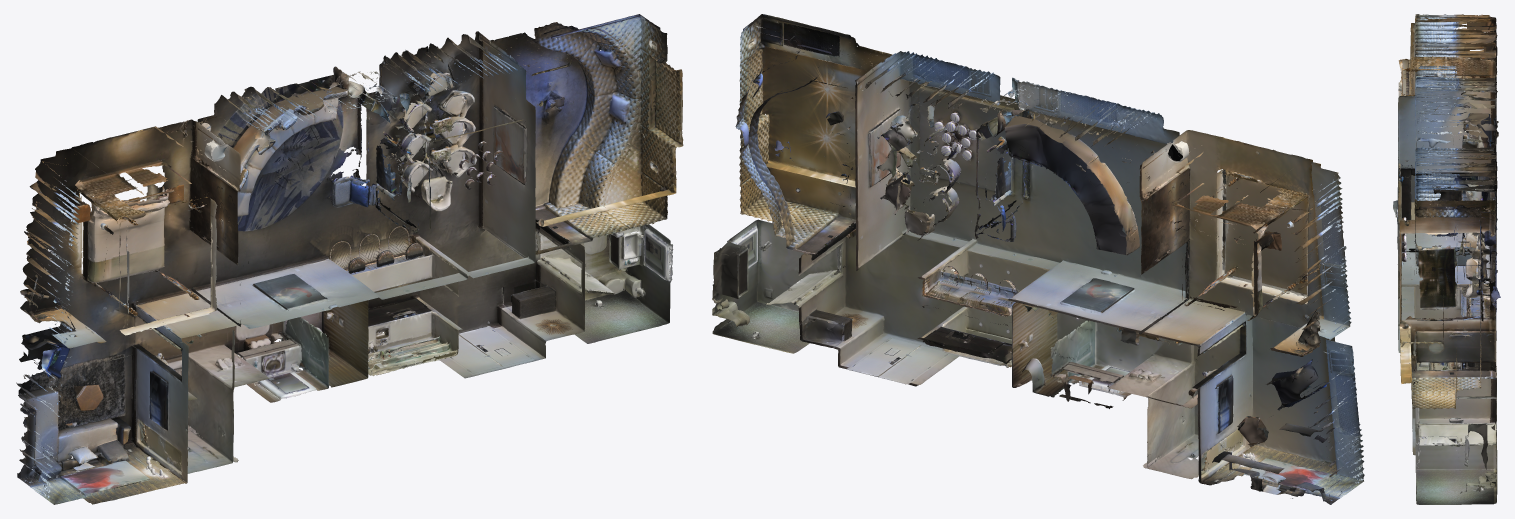
The model's file is 17DRP5sb8fy.glb.
3 views of the same model, side by side, from view 1: azimuth 30°, elevation 25°; view 2: azimuth 150°, elevation 25°; view 3: azimuth 270°, elevation 25° (orthographic). The views are drawn at different scales.
Parts seen in each view (by area): view 1: chunk008_group000_sub006, chunk009_group000_sub006, chunk025_group000_sub007, chunk028_group000_sub008, chunk000_group000_sub002, chunk004_group000_sub004, chunk026_group000_sub007, chunk029_group000_sub008, chunk048_group000_sub004, chunk032_group000_sub010, chunk003_group000_sub004, chunk011_group000_sub006 (+16 smaller); view 2: chunk026_group000_sub007, chunk007_group000_sub006, chunk008_group000_sub006, chunk000_group000_sub002, chunk004_group000_sub004, chunk028_group000_sub008, chunk032_group000_sub010, chunk029_group000_sub008, chunk003_group000_sub004, chunk015_group000_sub006_filled001, chunk025_group000_sub007, chunk009_group000_sub006 (+17 smaller); view 3: chunk048_group000_sub004, chunk010_group000_sub006, chunk004_group000_sub004, chunk027_group000_sub007, chunk005_group000_sub005, chunk059_group000_sub005, chunk011_group000_sub006, chunk017_group000_sub006, chunk009_group000_sub006, chunk000_group000_sub002, chunk015_group000_sub006_filled001, chunk008_group000_sub006 (+12 smaller).
Part boxes in pixels (x1,y1,x2,y2): chunk008_group000_sub006: (176, 47, 483, 328); chunk009_group000_sub006: (220, 31, 535, 299); chunk025_group000_sub007: (20, 119, 241, 338); chunk028_group000_sub008: (18, 302, 186, 504); chunk000_group000_sub002: (415, 221, 584, 378); chunk004_group000_sub004: (535, 14, 683, 254); chunk026_group000_sub007: (27, 120, 240, 348); chunk029_group000_sub008: (16, 303, 188, 497); chunk048_group000_sub004: (504, 16, 683, 252); chunk032_group000_sub010: (188, 300, 368, 402); chunk003_group000_sub004: (490, 14, 675, 226); chunk011_group000_sub006: (222, 32, 519, 301); chunk026_group000_sub007: (1139, 130, 1350, 356); chunk007_group000_sub006: (900, 51, 1141, 279); chunk008_group000_sub006: (900, 60, 1185, 332); chunk000_group000_sub002: (798, 233, 962, 386); chunk004_group000_sub004: (736, 16, 892, 260); chunk028_group000_sub008: (1199, 316, 1363, 504); chunk032_group000_sub010: (1011, 302, 1191, 408); chunk029_group000_sub008: (1197, 314, 1364, 496); chunk003_group000_sub004: (762, 17, 877, 186); chunk015_group000_sub006_filled001: (846, 71, 1136, 314); chunk025_group000_sub007: (1140, 130, 1322, 346); chunk009_group000_sub006: (855, 51, 1168, 269); chunk048_group000_sub004: (1399, 199, 1499, 408); chunk010_group000_sub006: (1397, 77, 1496, 352); chunk004_group000_sub004: (1399, 199, 1496, 409); chunk027_group000_sub007: (1398, 14, 1498, 176); chunk005_group000_sub005: (1415, 396, 1497, 504); chunk059_group000_sub005: (1415, 396, 1496, 491); chunk011_group000_sub006: (1397, 81, 1496, 316); chunk017_group000_sub006: (1393, 77, 1497, 350); chunk009_group000_sub006: (1398, 88, 1497, 321); chunk000_group000_sub002: (1412, 336, 1496, 455); chunk015_group000_sub006_filled001: (1396, 82, 1497, 308); chunk008_group000_sub006: (1400, 79, 1495, 315).
Size of what is drawn, in the model's own units: 16.35 by 8.28 by 2.81.
Materials: 23 (23 with a texture image).
